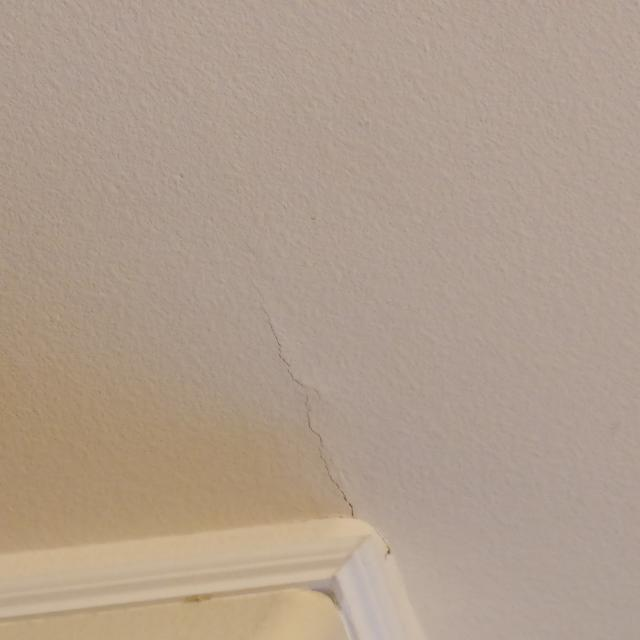Crack: (254, 276, 360, 518)
